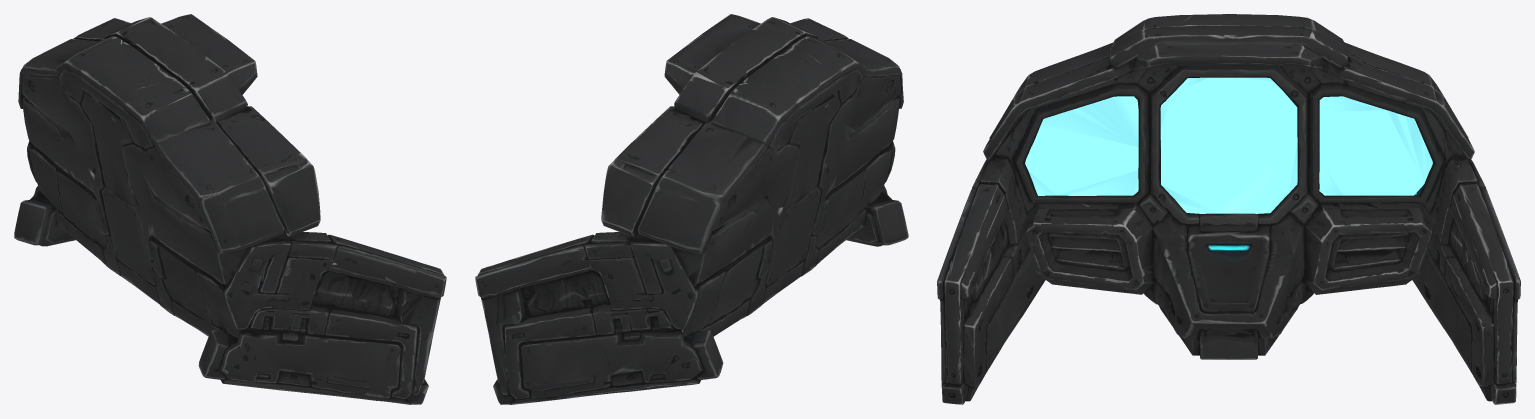
The model's file is console1_lab.glb.
3 views of the same model, side by side, from view 1: azimuth 30°, elevation 25°; view 2: azimuth 150°, elevation 25°; view 3: azimuth 270°, elevation 25° (orthographic). The views are drawn at different scales.
Parts seen in each view (by area): view 1: console1_game_console; view 2: console1_game_console; view 3: console1_game_console.
Part boxes in pixels (x1=…): console1_game_console: x1=14, y1=14, x2=446, y2=404; console1_game_console: x1=475, y1=14, x2=908, y2=404; console1_game_console: x1=937, y1=14, x2=1520, y2=404.
Size of the model in its own units: 0.4247 by 0.5473 by 0.9195.
Materials: 2 (1 with a texture image).
